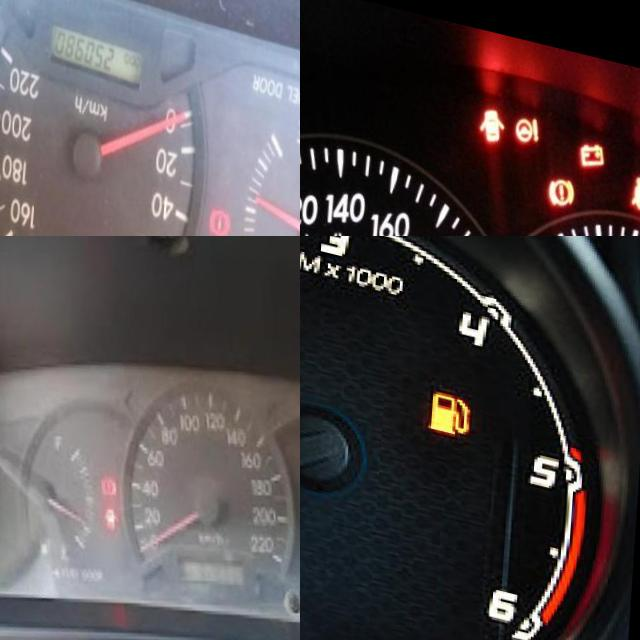Electronic Power Steering: (516, 91, 541, 123)
Seat Belt: (632, 147, 640, 186)
